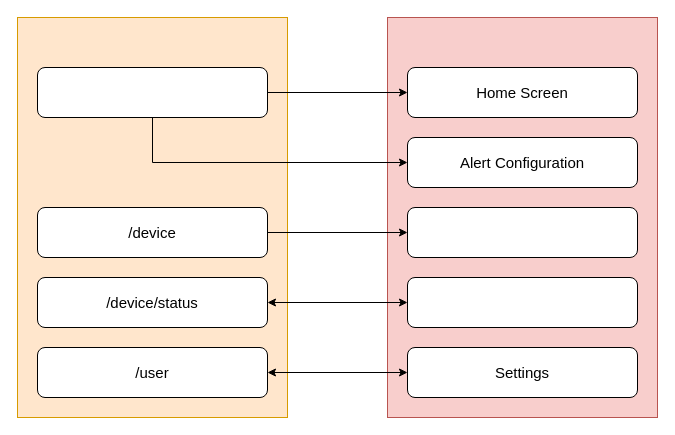
Some shapes in this 675 by 435 pixel diagram are drawn without their labels. Each missing label, with the box of its shape:
/location: (36, 66, 268, 118)
Device Finding: (406, 206, 638, 258)
Device Management: (406, 276, 638, 328)
